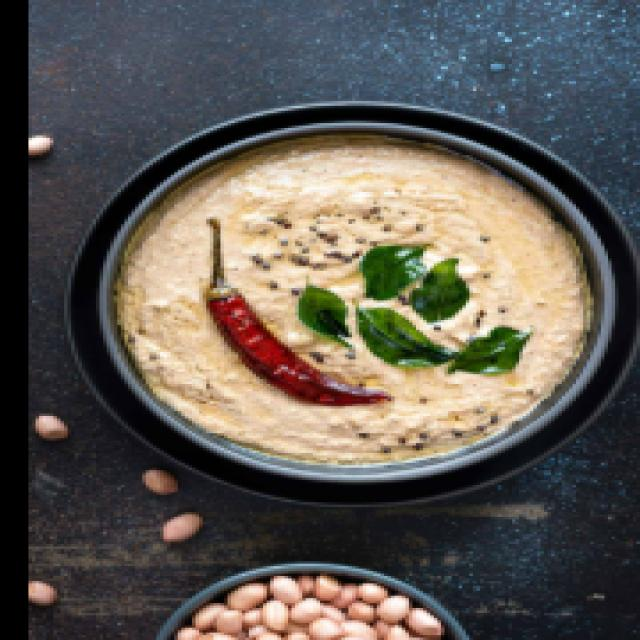peanut chutney: (99, 144, 543, 408)
